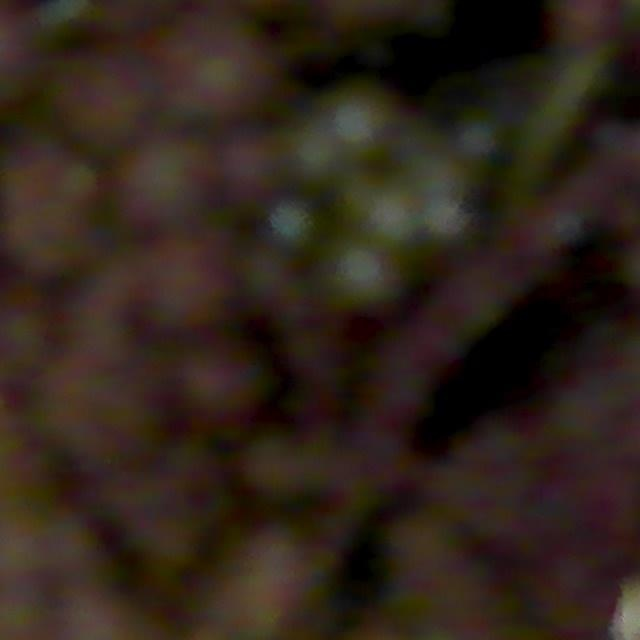SeaGrape: (164, 10, 276, 146), (40, 358, 160, 474), (52, 42, 152, 174), (136, 226, 248, 342), (0, 170, 108, 262), (180, 346, 284, 434), (124, 134, 211, 224), (328, 244, 398, 311), (220, 135, 277, 194), (552, 0, 612, 50), (267, 197, 316, 249)
